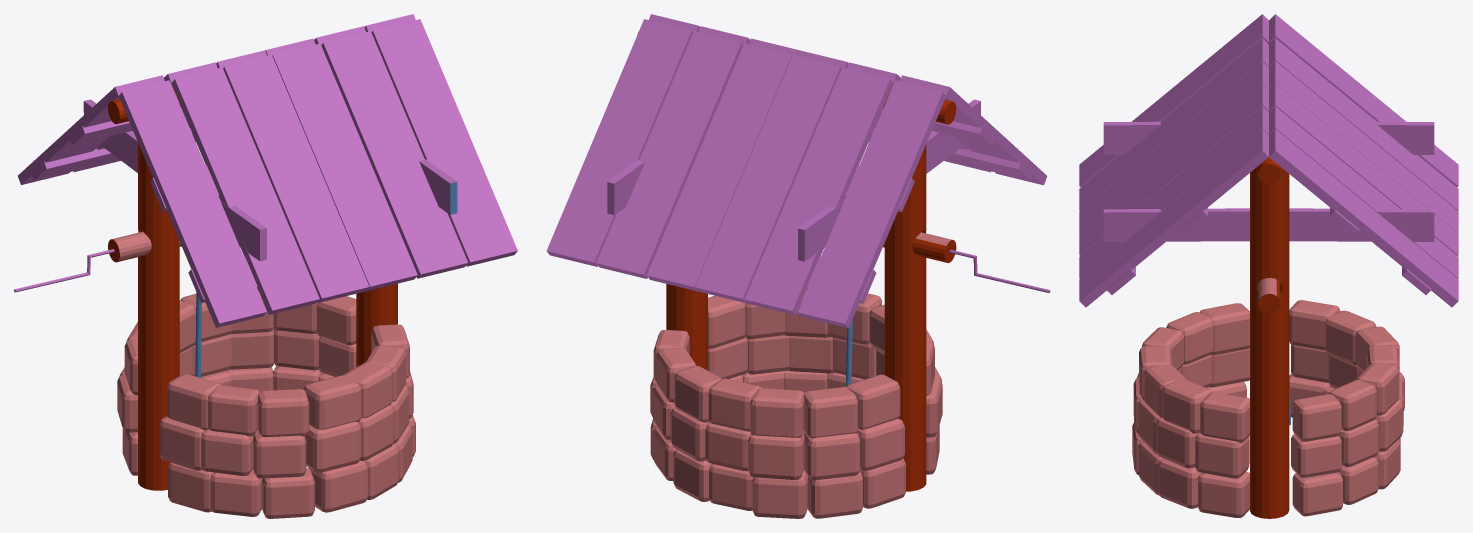
3 views of the same model, side by side, from view 1: azimuth 30°, elevation 25°; view 2: azimuth 150°, elevation 25°; view 3: azimuth 270°, elevation 25° (orthographic). The views are drawn at different scales.
Parts seen in each view (by area): view 1: world; view 2: world; view 3: world.
Boxes of the visible parts, x1,y1,x2,y2 form: world: [14, 14, 517, 518]; world: [546, 14, 1050, 518]; world: [1079, 14, 1458, 518].
Bounding box in the file's own units: 1 × 0.9574 × 0.8589.
